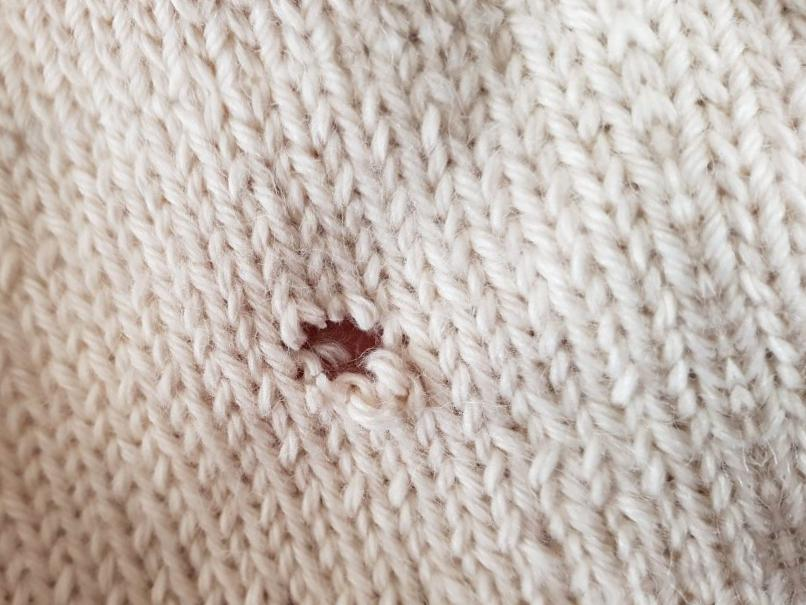hole: (284, 304, 392, 394)
